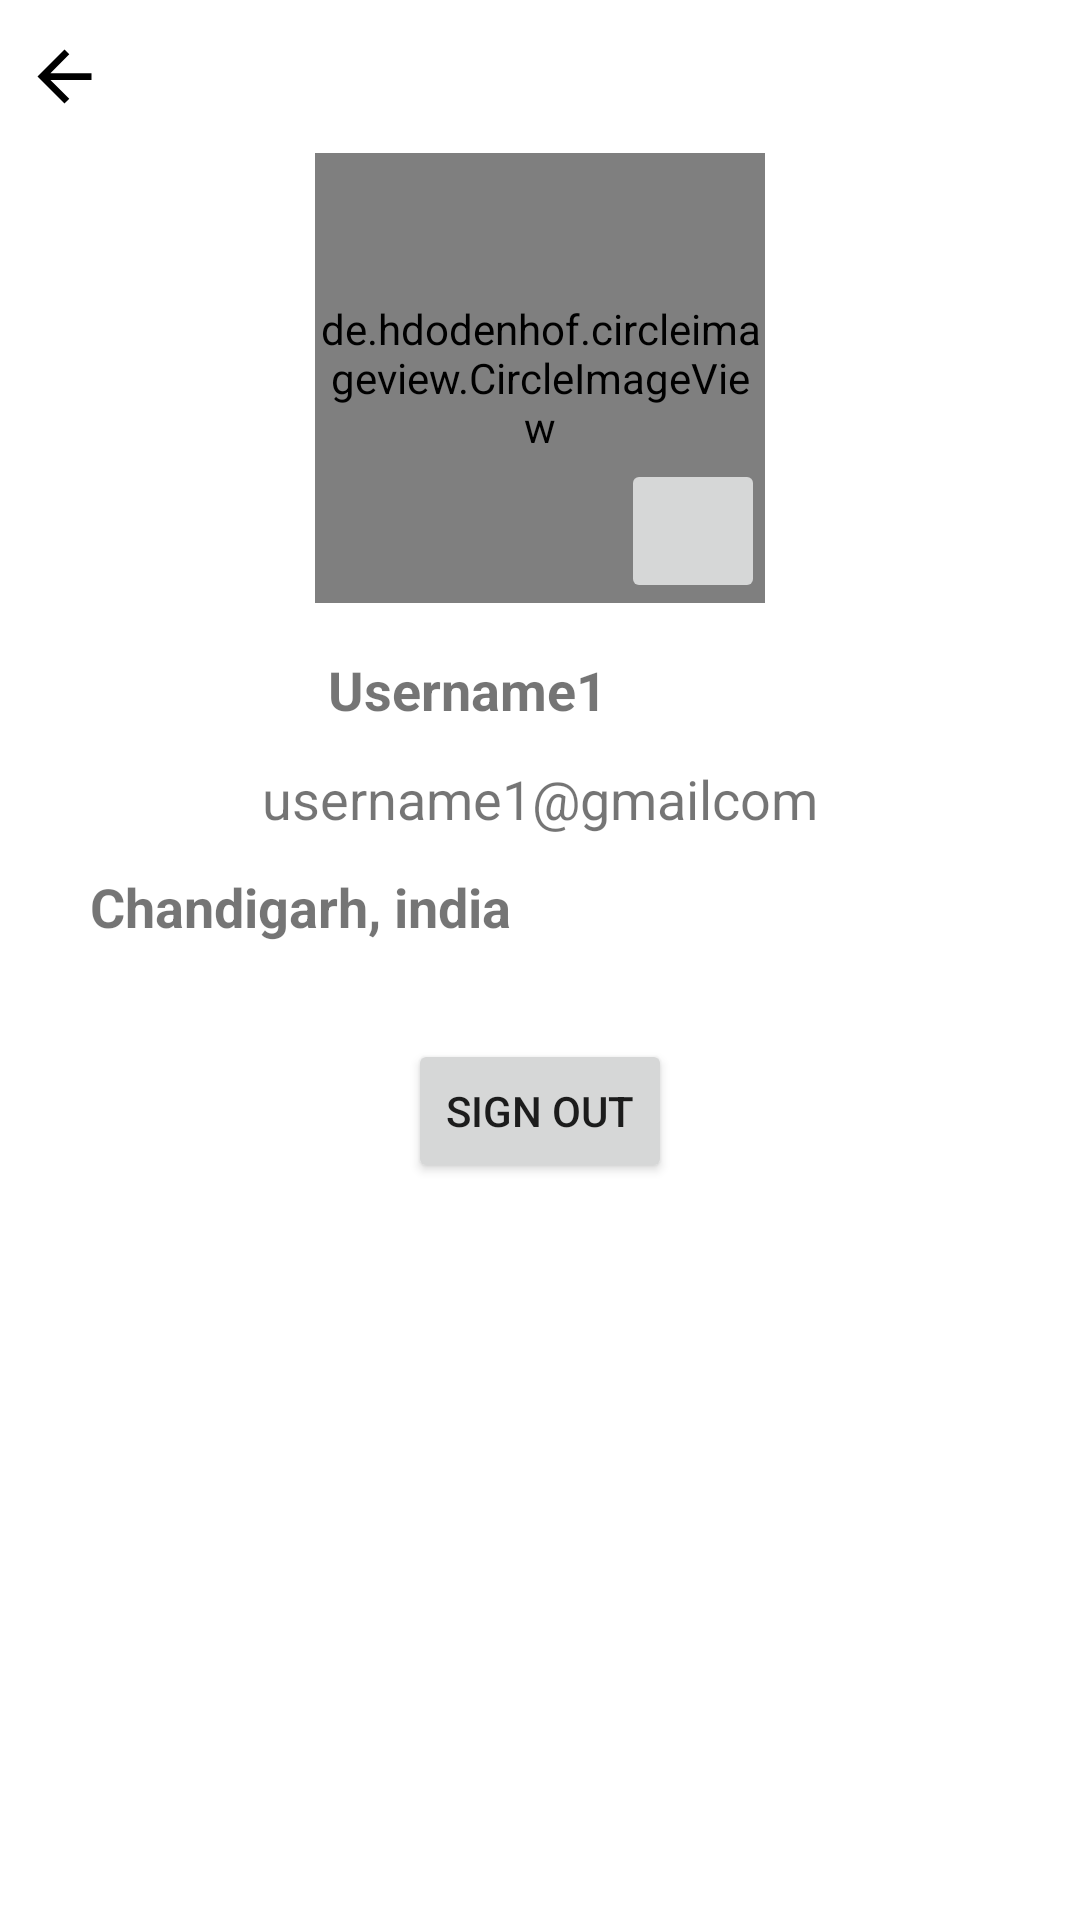

Point at icon controls on the screen. Image size 1080 × 1920, points as (x=x, y=y).
Back: (x=64, y=76)
